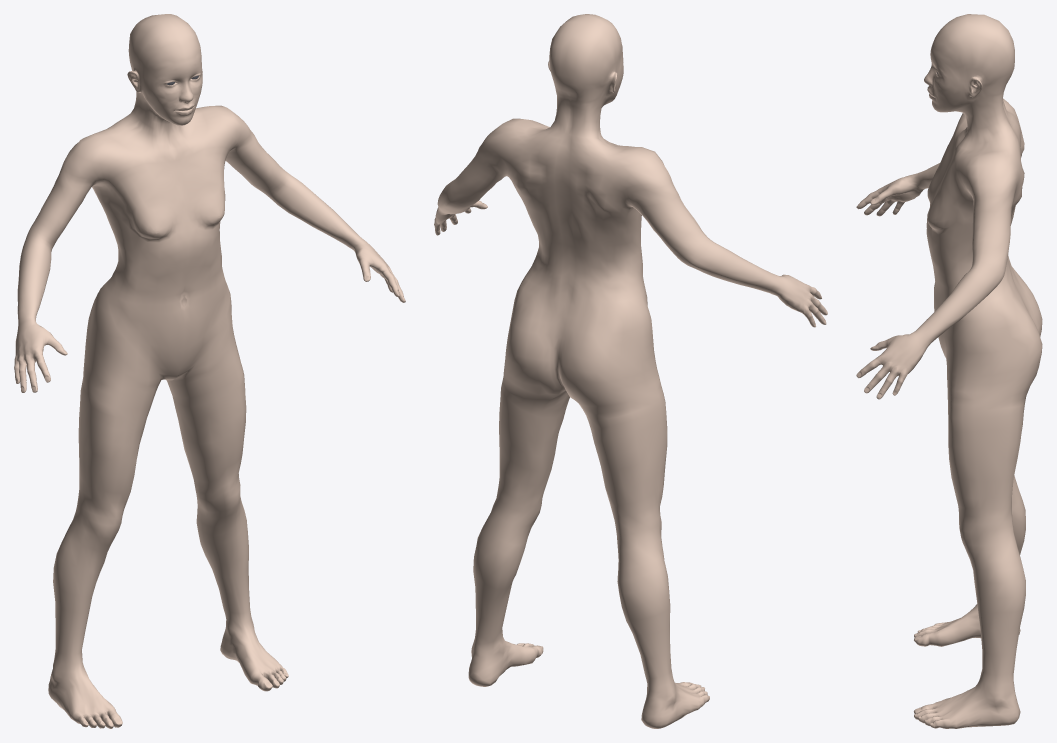
File: makehuman-body.glb
The picture shows the model from 3 angles, left to right: view 1: azimuth 30°, elevation 25°; view 2: azimuth 150°, elevation 25°; view 3: azimuth 270°, elevation 25°; orthographic projection.
Visible parts, largest first — view 1: trunk__anterior, thigh-right__anterior, thigh-left__anterior, head__anterior, upper-arm-right__anterior, leg-right__anterior, leg-left__anterior, upper-arm-left__anterior, foot-right__anterior, foot-left__anterior, hand-right__posterior, thigh-right__posterior (+11 smaller); view 2: trunk__posterior, thigh-right__posterior, buttock-right__posterior, thigh-left__posterior, leg-right__posterior, head__posterior, buttock-left__posterior, leg-left__posterior, upper-arm-right__posterior, upper-arm-left__posterior, forearm-right__posterior, neck__posterior (+8 smaller); view 3: trunk__anterior, thigh-left__posterior, thigh-left__anterior, buttock-left__posterior, head__posterior, leg-left__posterior, trunk__posterior, head__anterior, foot-left__anterior, upper-arm-left__posterior, forearm-left__posterior, leg-left__anterior (+10 smaller).
Part boxes in pixels (<box>): trunk__anterior: <box>94,120,231,369</box>; thigh-right__anterior: <box>80,339,161,545</box>; thigh-left__anterior: <box>171,305,246,518</box>; head__anterior: <box>127,19,202,125</box>; upper-arm-right__anterior: <box>35,134,145,248</box>; leg-right__anterior: <box>57,522,110,671</box>; leg-left__anterior: <box>200,497,251,630</box>; upper-arm-left__anterior: <box>194,107,286,195</box>; foot-right__anterior: <box>48,661,122,727</box>; foot-left__anterior: <box>220,618,288,690</box>; hand-right__posterior: <box>14,314,67,392</box>; thigh-right__posterior: <box>73,336,96,528</box>; trunk__posterior: <box>496,125,648,349</box>; thigh-right__posterior: <box>589,346,661,549</box>; buttock-right__posterior: <box>556,316,646,438</box>; thigh-left__posterior: <box>493,393,568,524</box>; leg-right__posterior: <box>617,541,673,692</box>; head__posterior: <box>548,15,620,108</box>; buttock-left__posterior: <box>500,302,566,413</box>; leg-left__posterior: <box>473,505,532,649</box>; upper-arm-right__posterior: <box>607,148,702,259</box>; upper-arm-left__posterior: <box>448,122,538,209</box>; forearm-right__posterior: <box>678,236,787,294</box>; neck__posterior: <box>534,96,610,150</box>; trunk__anterior: <box>926,119,982,356</box>; thigh-left__posterior: <box>974,341,1023,545</box>; thigh-left__anterior: <box>943,339,984,545</box>; buttock-left__posterior: <box>986,294,1042,427</box>; head__posterior: <box>949,14,1014,111</box>; leg-left__posterior: <box>993,532,1025,692</box>; trunk__posterior: <box>965,108,1027,342</box>; head__anterior: <box>924,14,981,112</box>; foot-left__anterior: <box>913,680,1014,728</box>; upper-arm-left__posterior: <box>986,146,1017,271</box>; forearm-left__posterior: <box>915,258,1004,349</box>; leg-left__anterior: <box>963,544,1000,692</box>.
Bounding box in the file's own units: 0.9925 × 1.67 × 0.423.
